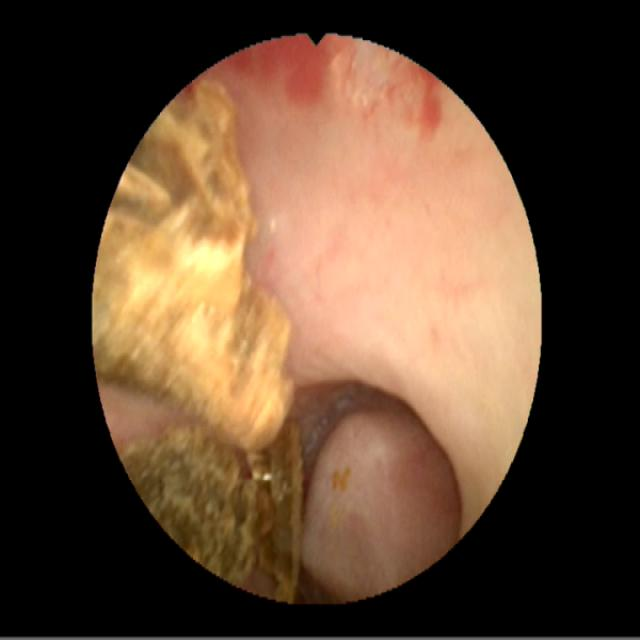stone: (98, 82, 293, 446), (124, 425, 301, 594)
